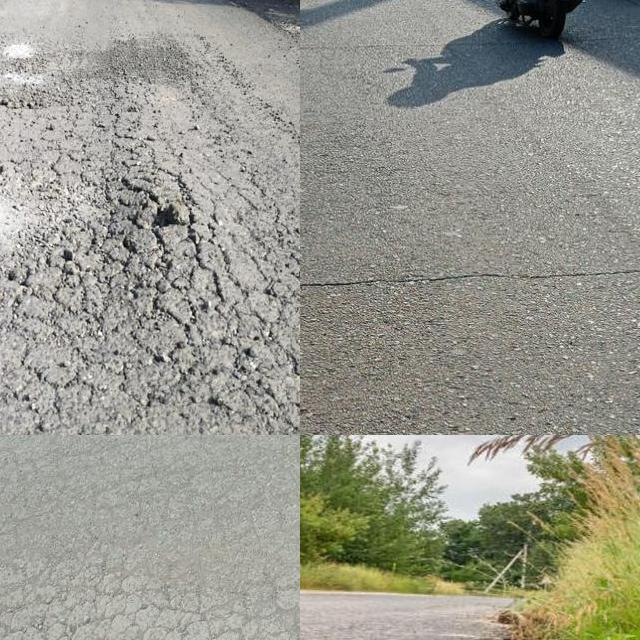Melintang: (300, 257, 640, 301)
Retak Buaya: (0, 65, 300, 435), (0, 587, 300, 640)
